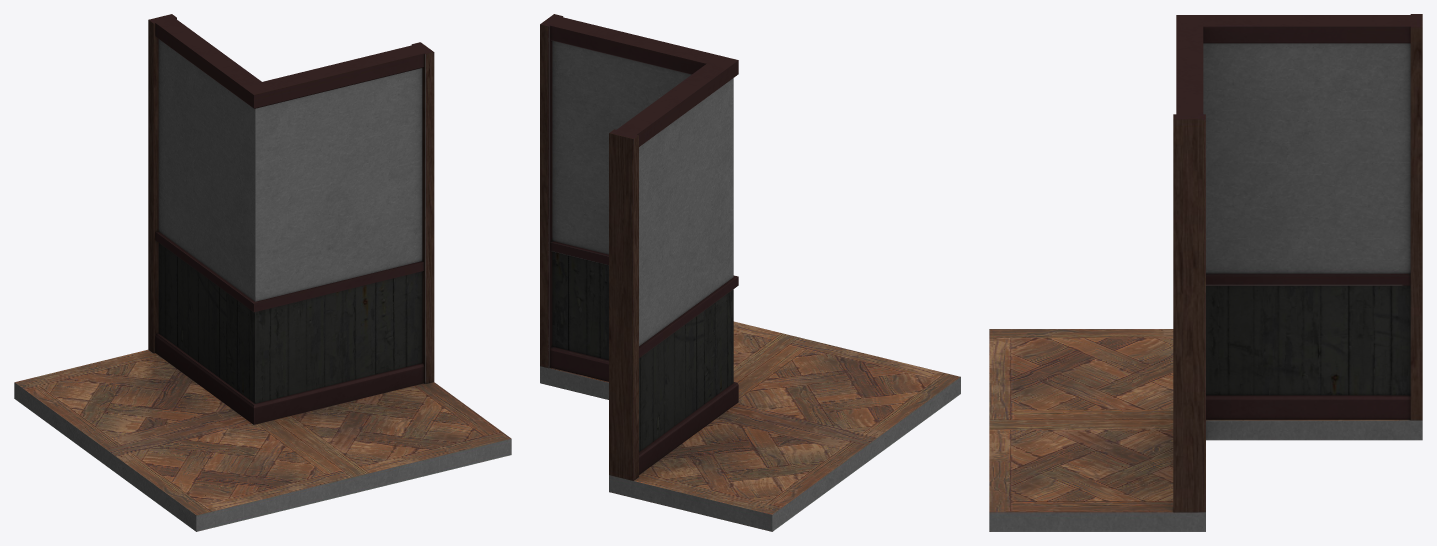
The model's file is SM_Wall_Corner_Invert.fbx.
The picture shows the model from 3 angles, left to right: view 1: azimuth 30°, elevation 25°; view 2: azimuth 150°, elevation 25°; view 3: azimuth 270°, elevation 25°; orthographic projection. The views are drawn at different scales.
Parts seen in each view (by area): view 1: Wall_Corner_Invert; view 2: Wall_Corner_Invert; view 3: Wall_Corner_Invert.
Part boxes in pixels (box(x1,y1,x2,y2)): Wall_Corner_Invert: box(14, 14, 511, 531); Wall_Corner_Invert: box(540, 14, 960, 531); Wall_Corner_Invert: box(989, 14, 1422, 531).
Size of the model in its own units: 400 by 420 by 400.
